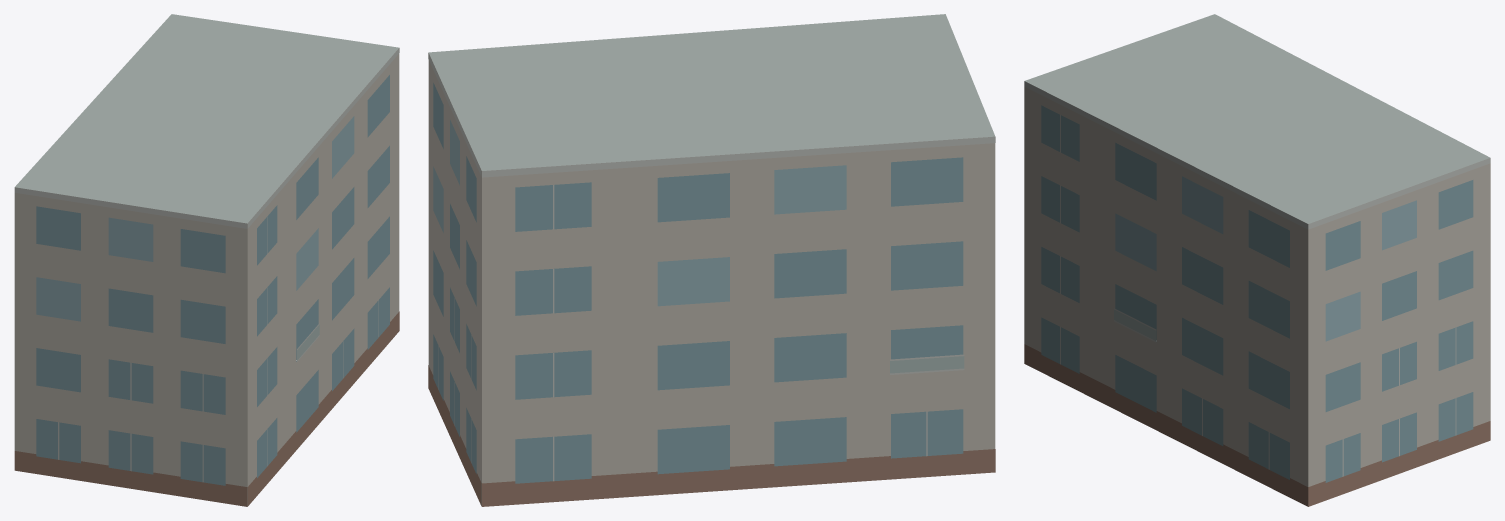
File: survey-upis-32996962.glb
3 renders of one model, left to right at view 1: azimuth 30°, elevation 25°; view 2: azimuth 150°, elevation 25°; view 3: azimuth 270°, elevation 25°, orthographic. The views are drawn at different scales.
Visible parts, largest first — view 1: survey-upis-32996962.tmp; view 2: survey-upis-32996962.tmp; view 3: survey-upis-32996962.tmp.
Boxes of the visible parts, x1,y1,x2,y2 form: survey-upis-32996962.tmp: (14,14,399,506); survey-upis-32996962.tmp: (428,14,995,506); survey-upis-32996962.tmp: (1024,14,1490,506).
Size of the model in its own units: 20.1 by 12.6 by 18.84.
